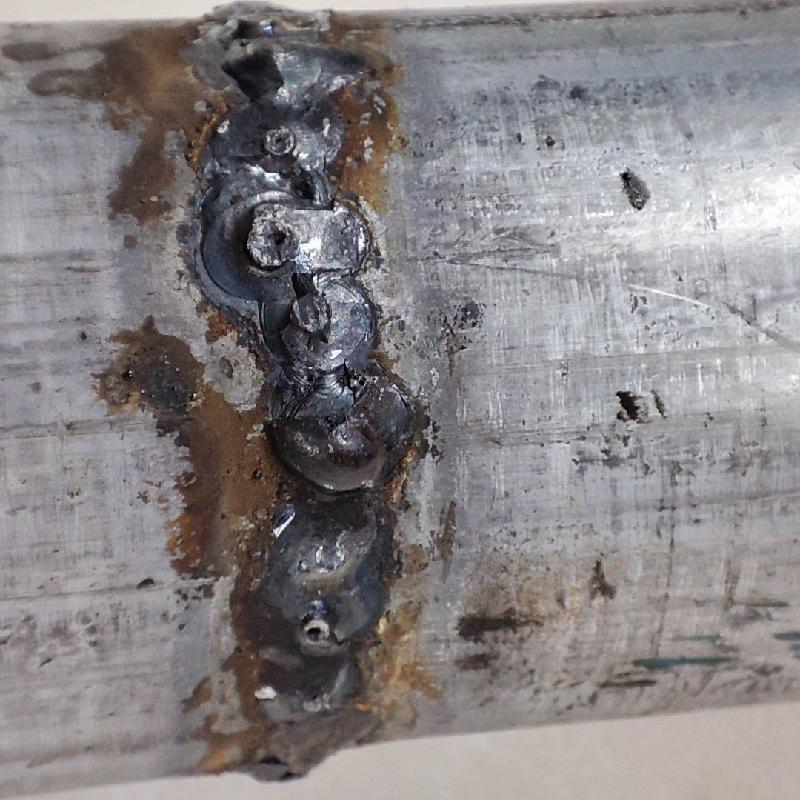Surface_pores: (291, 612, 344, 651), (255, 215, 299, 257), (262, 122, 298, 160), (223, 32, 268, 59)
wrong_size: (186, 0, 405, 714)
